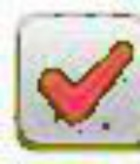CheckBox: (1, 1, 139, 163)
